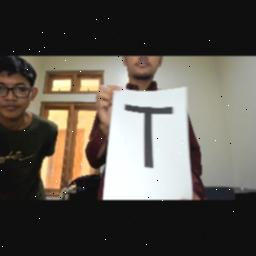t: (122, 101, 178, 173)
